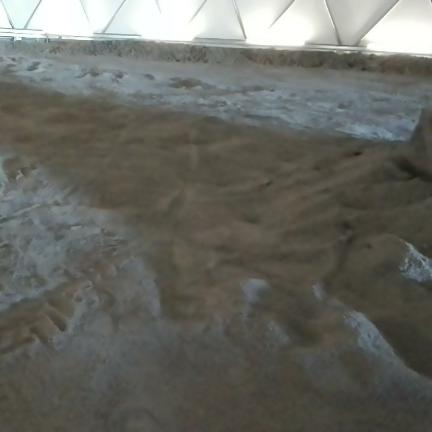Rock: (408, 108, 431, 180)
